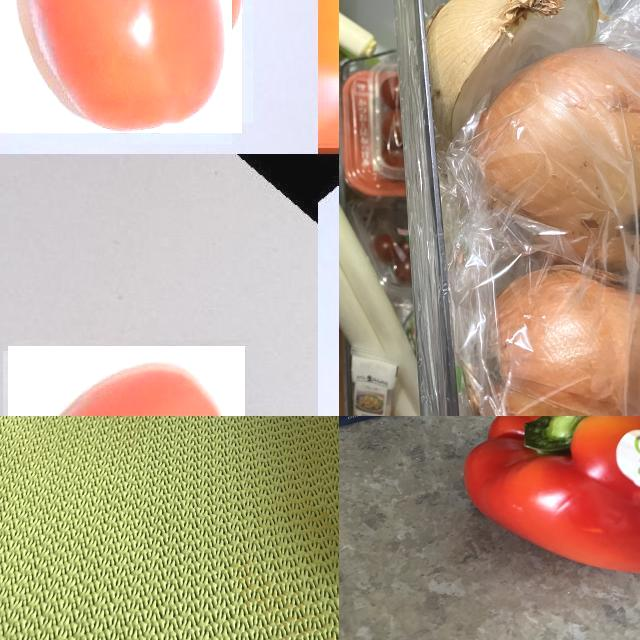bell_pepper: (468, 417, 640, 575)
onion: (475, 47, 640, 276), (340, 1, 426, 417), (422, 1, 603, 149), (472, 265, 640, 417)
tomato: (1, 1, 243, 134), (8, 346, 246, 417)
